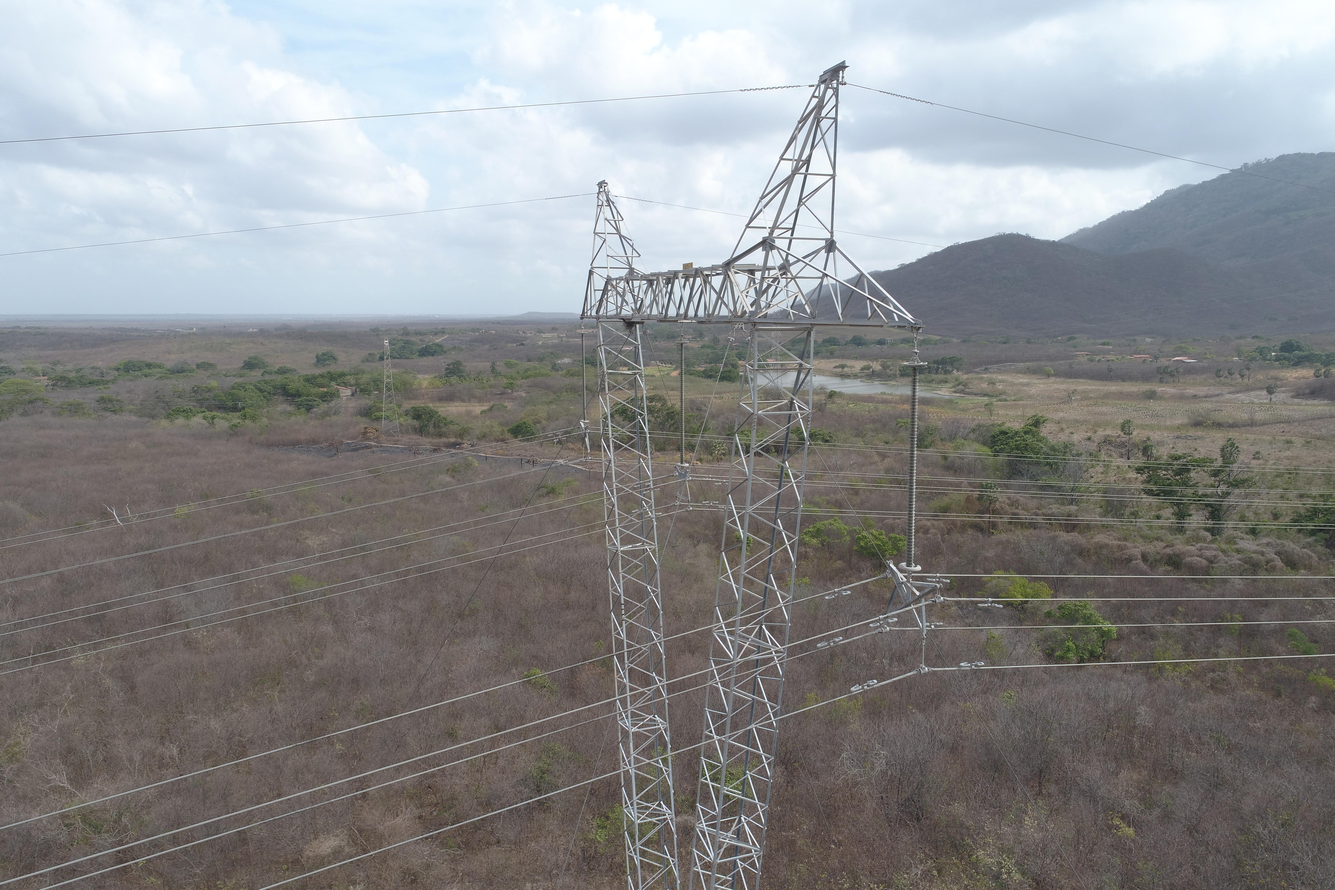power_tower: (579, 62, 944, 889), (379, 330, 405, 435)
